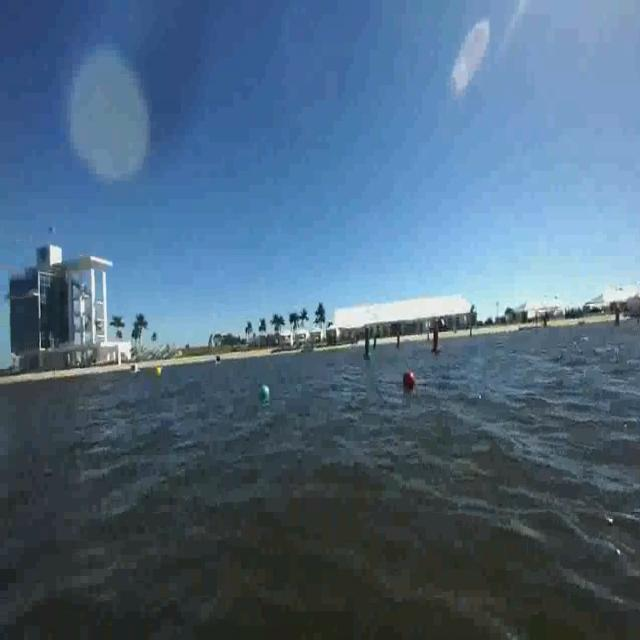green-buoy: (262, 384, 270, 397)
green-column-buoy: (362, 328, 372, 360)
red-buoy: (406, 371, 416, 387)
red-column-buoy: (431, 325, 441, 355)
yellow-buoy: (155, 363, 161, 378)
